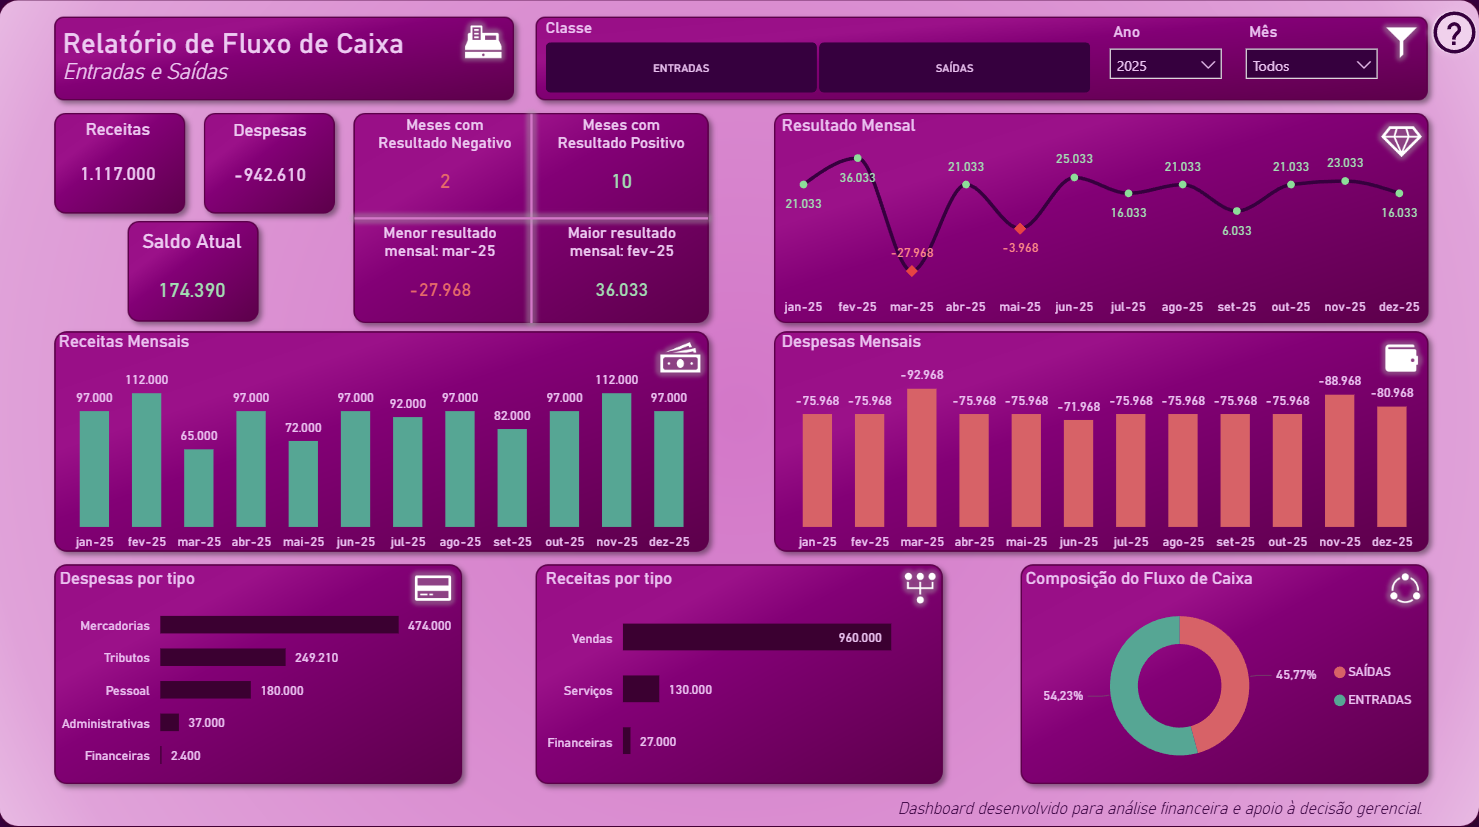

The dashboard page shown, as its layout file describes it:
{"tool":"powerbi","page":{"name":"Fluxo de Caixa","canvas":[1280,720],"ordinal":0},"visuals":[{"type":"slicer","fields":{"Values":["Calendario.Ano"]},"box":[944,17.8,116.4,68.4],"z":0},{"type":"donutChart","title":"Composição do Fluxo de Caixa","fields":{"Y":["DadosFluxo.Valores1"],"Category":["BaseFluxo.CLASSE"]},"box":[877.3,490.7,349.3,184],"z":1000},{"type":"slicer","fields":{"Values":["Calendario.Nome do Mês"]},"box":[1060.4,17.8,133.3,68.4],"z":2000},{"type":"barChart","title":"Receitas por tipo","fields":{"Category":["BaseFluxo.TIPO"],"Y":["DadosFluxo.Valores"]},"box":[466.7,490.7,345.8,184],"z":3000},{"type":"columnChart","title":"Receitas Mensais","fields":{"Category":["Calendario.MêsAno"],"Y":["DadosFluxo.Valores"]},"box":[49.7,288,563.6,192.9],"z":4000},{"type":"barChart","title":"Despesas por tipo","fields":{"Category":["BaseFluxo.TIPO"],"Y":["DadosFluxo.Valores"]},"box":[50.7,490.7,346.7,184],"z":5000},{"type":"columnChart","title":"Despesas Mensais","fields":{"Y":["DadosFluxo.Valores"],"Category":["Calendario.MêsAno"]},"box":[668.4,288,563.6,192.9],"z":6000},{"type":"card","title":"Saldo Atual","fields":{"Values":["DadosFluxo.Valores Ajustados"]},"box":[112.9,199.1,111.1,87.1],"z":7000},{"type":"card","title":"Receitas","fields":{"Values":["DadosFluxo.Valores Ajustados"]},"box":[50.7,105.8,109.3,78.2],"z":8000},{"type":"card","title":"Despesas","fields":{"Values":["DadosFluxo.Valores Ajustados"]},"box":[179.6,106.7,111.1,78.2],"z":9000},{"type":"textbox","box":[53.3,21.3,362.7,64.9],"z":10000},{"type":"advancedSlicerVisual","fields":{"Values":["BaseFluxo.CLASSE"]},"box":[466.7,19.6,477.3,68.4],"z":11000},{"type":"lineChart","title":"Resultado Mensal","fields":{"Category":["Calendario.MêsAno"],"Y":["DadosFluxo.Valores Ajustados","DadosFluxo.Resultados negativos"]},"box":[668.4,103.1,558.2,176.9],"z":12000},{"type":"textbox","box":[768,681.8,468.4,30.2],"z":13000},{"type":"card","fields":{"Values":["DadosFluxo.Menor Resultado Mensal"]},"box":[308.4,195.6,145.8,84.4],"z":14000},{"type":"card","fields":{"Values":["DadosFluxo.Maior Resultado Mensal"]},"box":[466.7,195.6,140.4,84.4],"z":15000},{"type":"card","title":"Meses com Resultado Negativo","fields":{"Values":["DadosFluxo.Meses com Resultados Negativos"]},"box":[315.6,103.1,138.7,81.8],"z":16000},{"type":"card","title":"Meses com Resultado Positivo","fields":{"Values":["DadosFluxo.Meses com Resultados Positivos"]},"box":[469.3,103.1,134.2,81.8],"z":17000},{"type":"actionButton","box":[1225.8,8,54.2,47.1],"z":18000}]}

Visuals, with their boxes in screenshot pixels (x1, y1, x2, y2), scaled from the page's 1280x720 canvas onto the 1479x827 screenshot:
slicer - Calendario.Ano: bbox=[1091, 20, 1225, 99]
"Composição do Fluxo de Caixa" donutChart: bbox=[1014, 564, 1417, 775]
slicer - Calendario.Nome do Mês: bbox=[1225, 20, 1379, 99]
"Receitas por tipo" barChart: bbox=[539, 564, 939, 775]
"Receitas Mensais" columnChart: bbox=[57, 331, 709, 552]
"Despesas por tipo" barChart: bbox=[59, 564, 459, 775]
"Despesas Mensais" columnChart: bbox=[772, 331, 1424, 552]
"Saldo Atual" card: bbox=[130, 229, 259, 329]
"Receitas" card: bbox=[59, 122, 185, 211]
"Despesas" card: bbox=[208, 123, 336, 212]
textbox: bbox=[62, 24, 481, 99]
advancedSlicerVisual - BaseFluxo.CLASSE: bbox=[539, 23, 1091, 101]
"Resultado Mensal" lineChart: bbox=[772, 118, 1417, 322]
textbox: bbox=[887, 783, 1429, 818]
card - DadosFluxo.Menor Resultado Mensal: bbox=[356, 225, 525, 322]
card - DadosFluxo.Maior Resultado Mensal: bbox=[539, 225, 701, 322]
"Meses com Resultado Negativo" card: bbox=[365, 118, 525, 212]
"Meses com Resultado Positivo" card: bbox=[542, 118, 697, 212]
actionButton: bbox=[1416, 9, 1478, 63]
